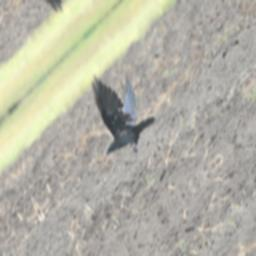Crow: (72, 45, 162, 177)
